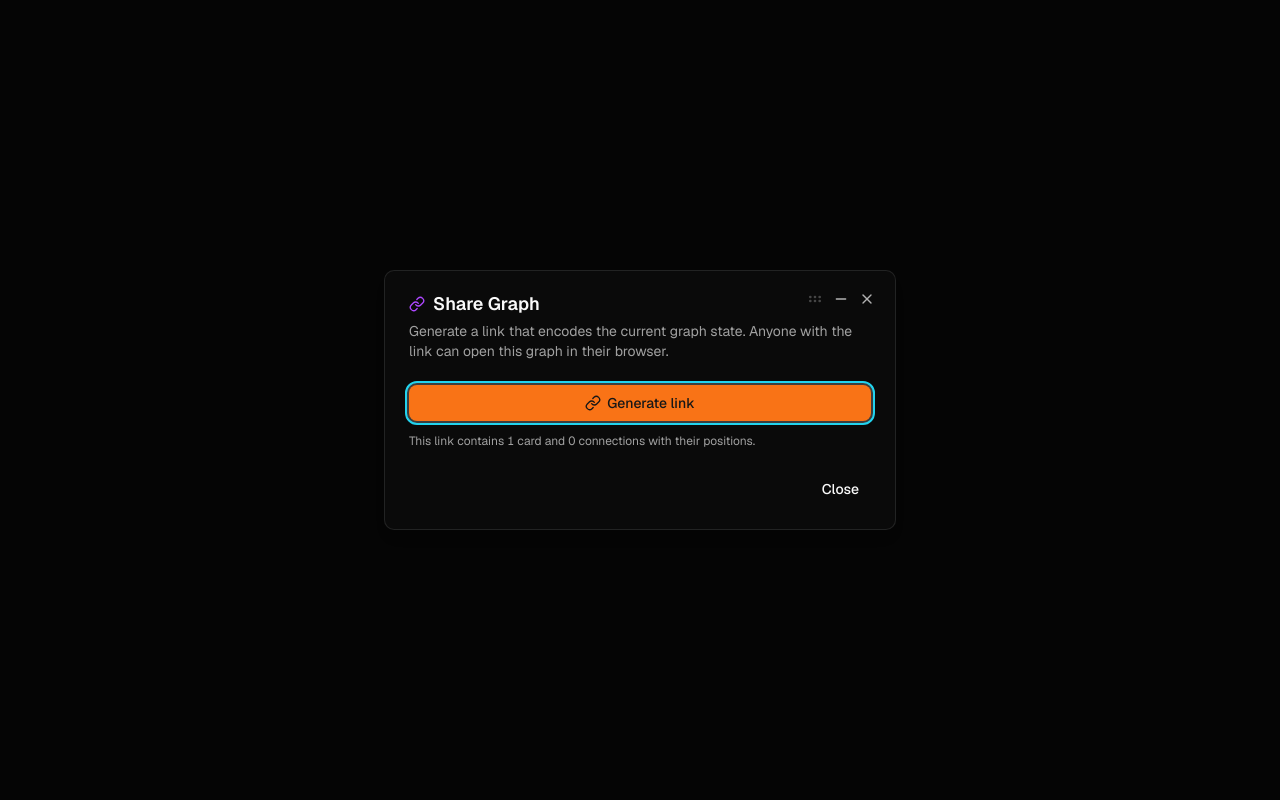
ShareDialog clipboard › copy writes to clipboard and shows Copied
The width and height of the screenshot is (1280, 800).
Click the button "Generate link". click: [640, 403]
box: [409,385,871,421]
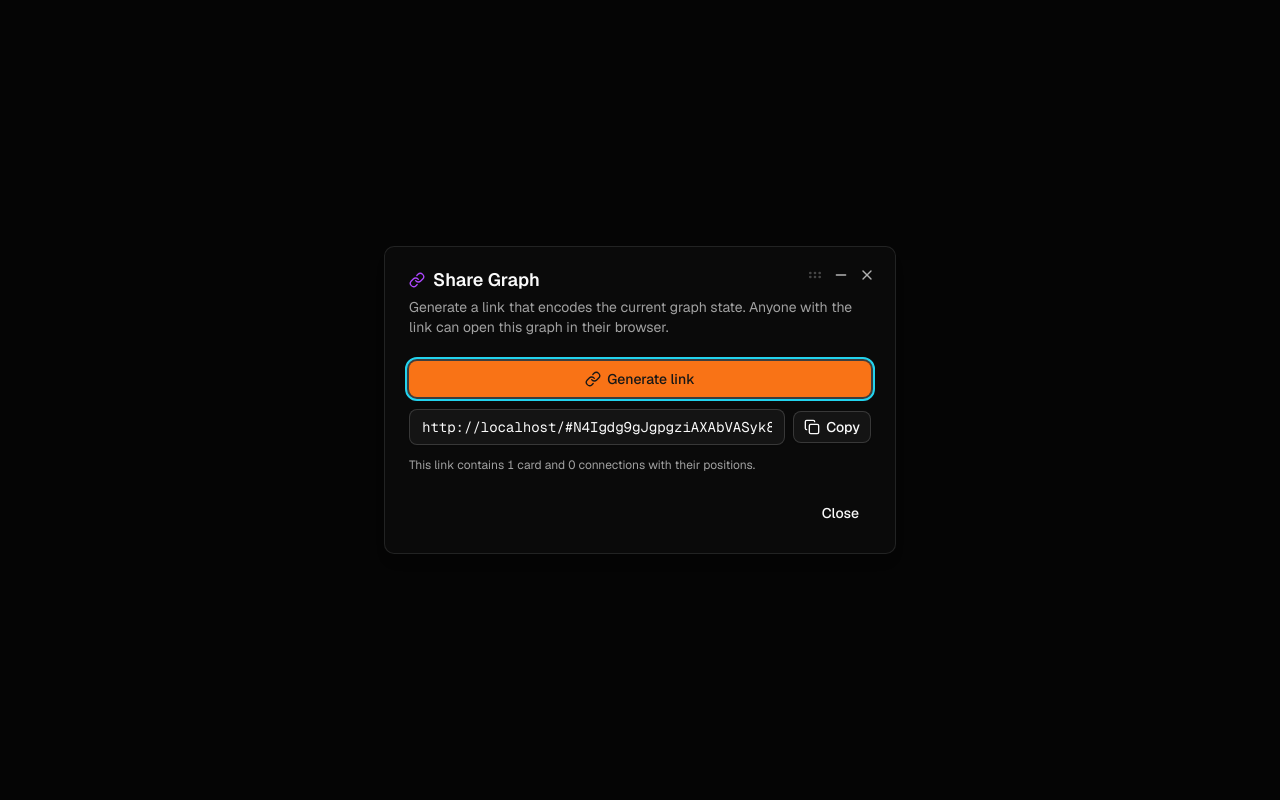
Result: the field is shown at [409,409,785,445]
Click the button "Copy". click: [832, 427]
box: [793,411,871,443]
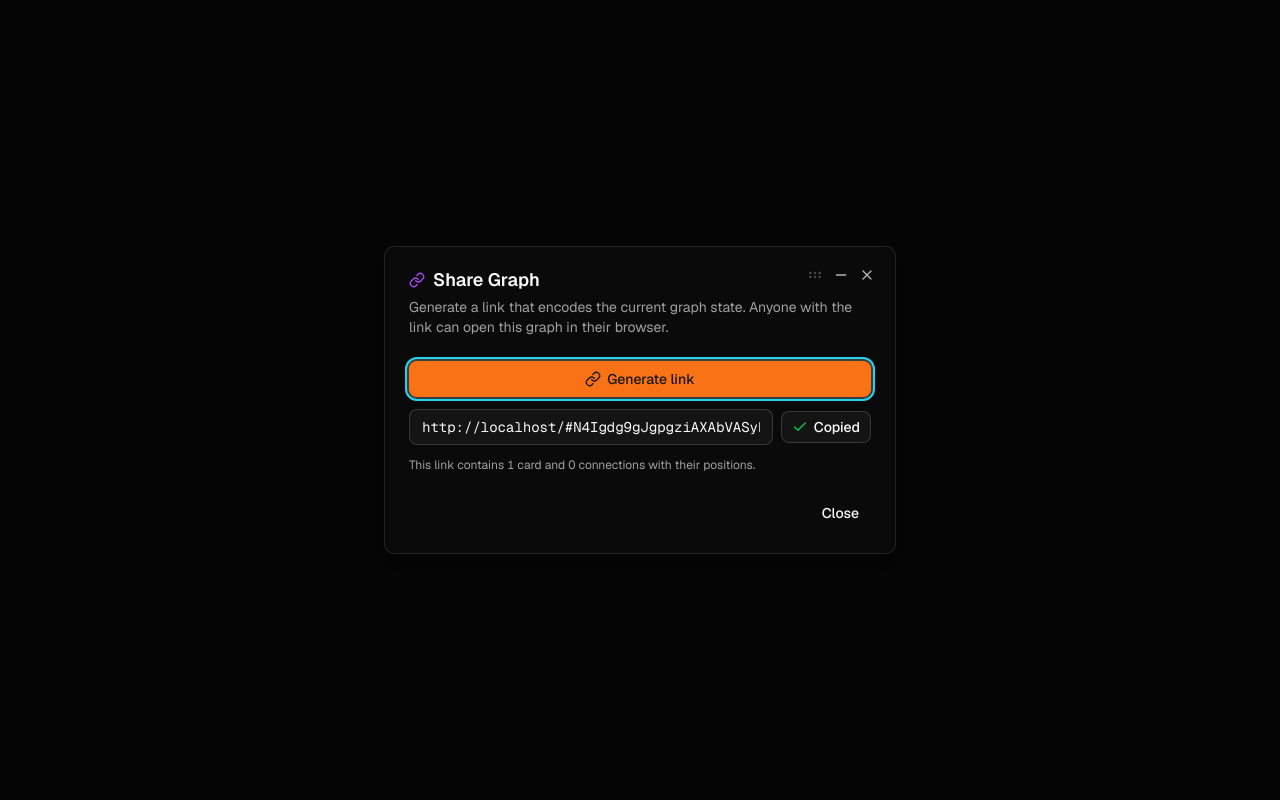
Result: the text "Copied" is shown at [781,411,871,443]
